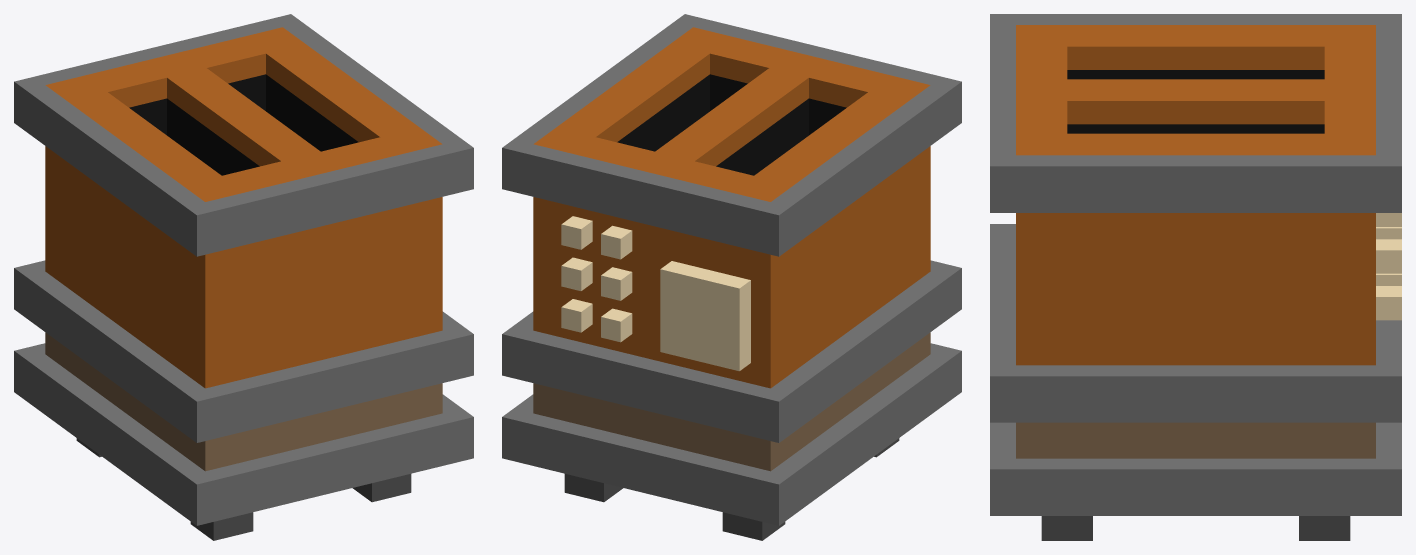
The model's file is breadtoaster.obj.
3 views of the same model, side by side, from view 1: azimuth 30°, elevation 25°; view 2: azimuth 150°, elevation 25°; view 3: azimuth 270°, elevation 25° (orthographic). The views are drawn at different scales.
Size of the model in its own units: 1.4 by 1.7 by 1.6.
1 material, 1 textured.
